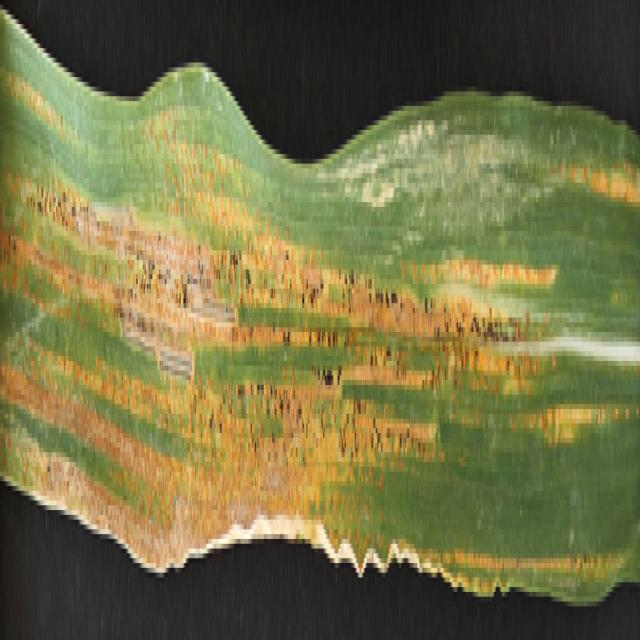leaf rust: (1, 38, 640, 616)
